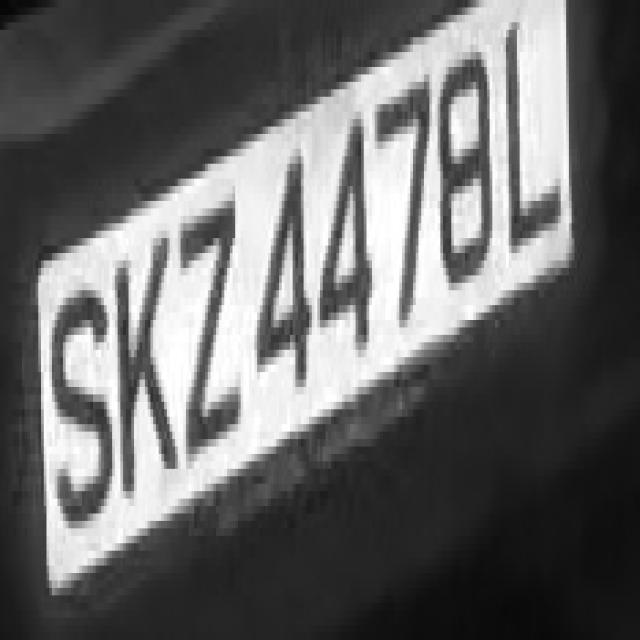4: (252, 90, 317, 410), (317, 75, 383, 358)
7: (378, 67, 443, 320)
8: (432, 37, 498, 283)
K: (112, 208, 178, 506)
L: (498, 0, 563, 253)
S: (46, 261, 118, 528)
Z: (172, 179, 249, 476)
